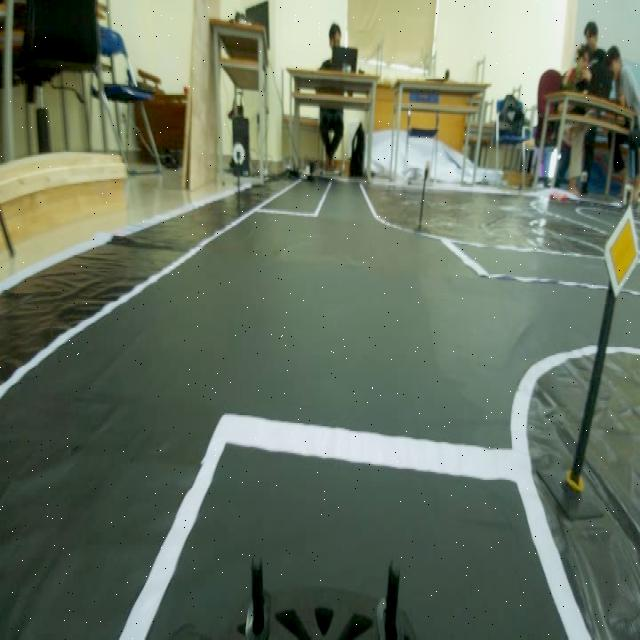priority: (600, 199, 638, 292)
